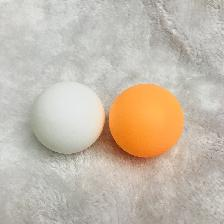WhiteBall: (30, 81, 104, 153)
YellowBall: (108, 83, 182, 156)
